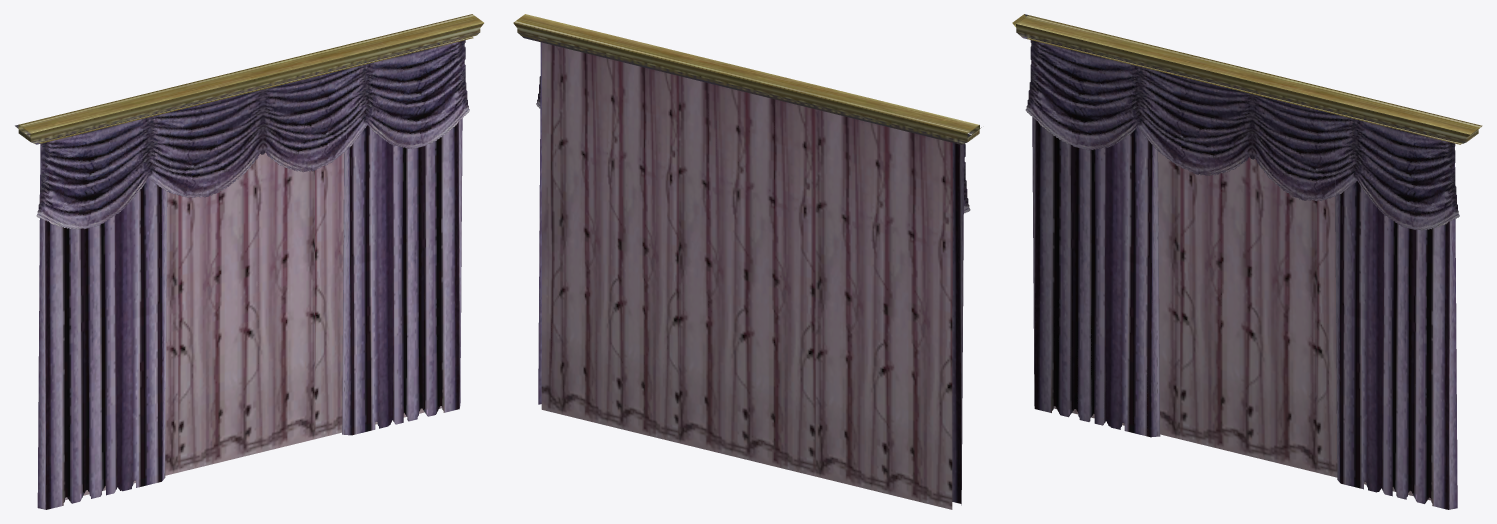
The model's file is furni_0200762.FBX.
3 views of the same model, side by side, from view 1: azimuth 30°, elevation 25°; view 2: azimuth 150°, elevation 25°; view 3: azimuth 330°, elevation 25° (orthographic).
Parts seen in each view (by area): view 1: furni_0200762; view 2: furni_0200762; view 3: furni_0200762.
Part boxes in pixels (x1,y1,x2,y2): furni_0200762: (15, 14, 483, 509); furni_0200762: (513, 14, 981, 509); furni_0200762: (1012, 14, 1482, 509).
Bounding box in the file's own units: 351 × 280 × 16.11.
2 materials, 2 textured.
